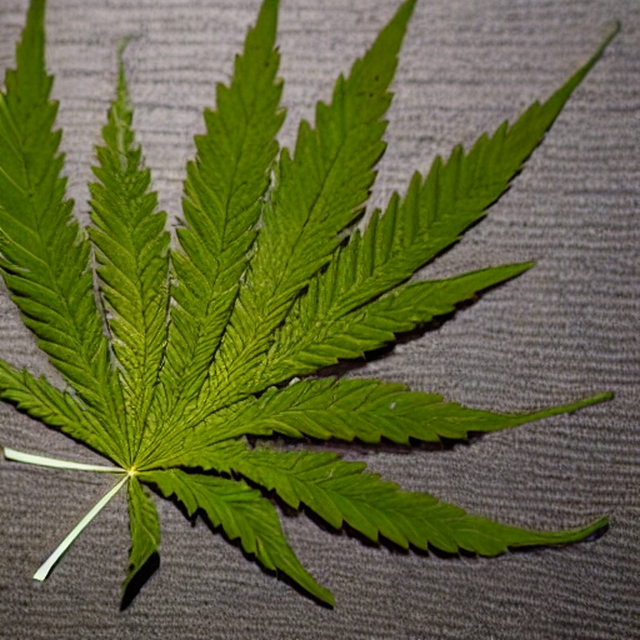Marijuana Leaf: (0, 0, 621, 613)
